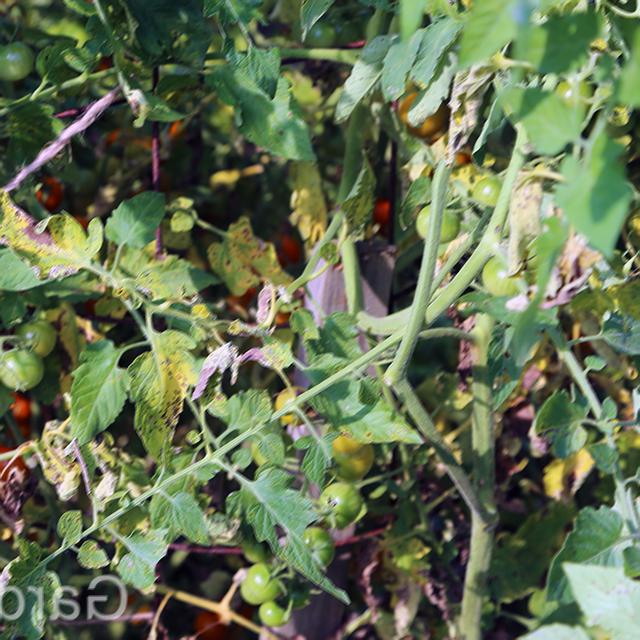Tomato Early blight leaf: (0, 179, 107, 283), (213, 64, 312, 163), (127, 331, 196, 461), (296, 387, 418, 446), (64, 342, 133, 446), (209, 223, 287, 292), (130, 255, 218, 298)
